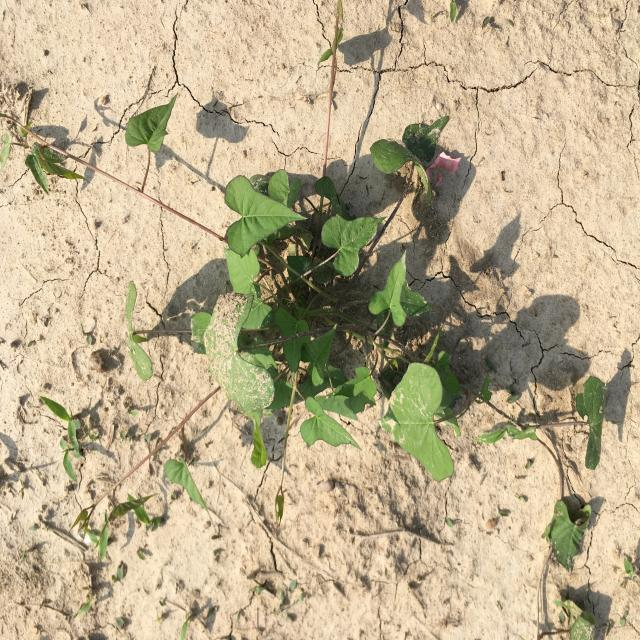MorningGlory: (0, 1, 608, 640)
